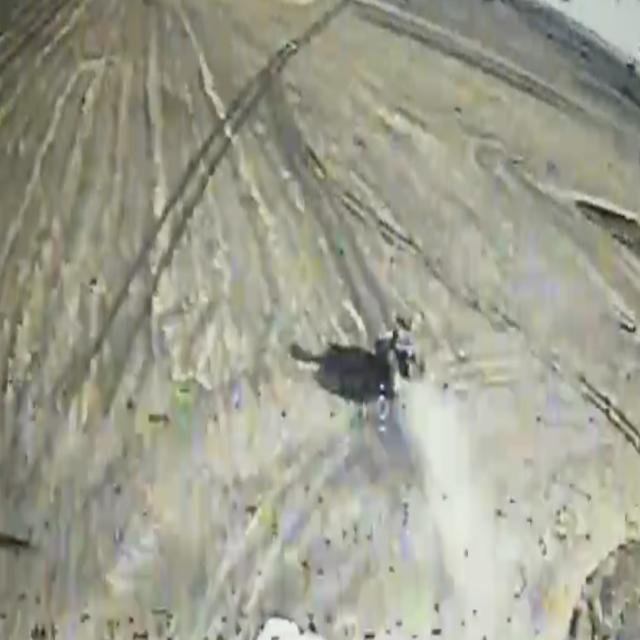vehicle: (373, 312, 427, 394)
